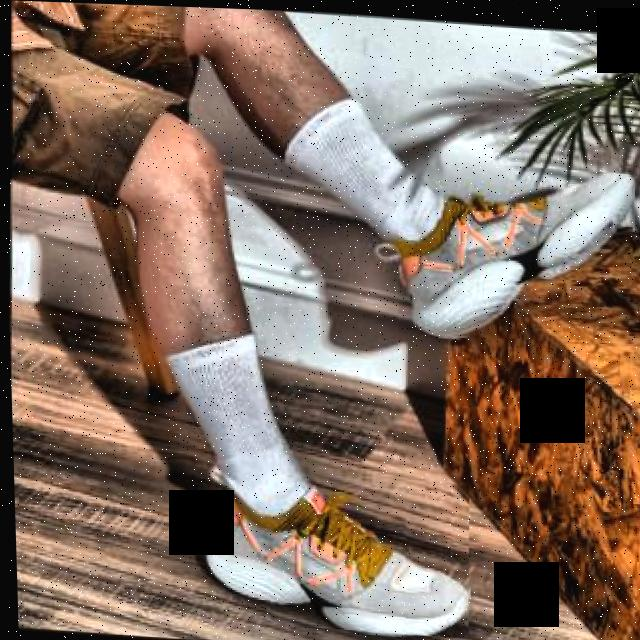shoe: (195, 458, 469, 635), (391, 154, 638, 345)
